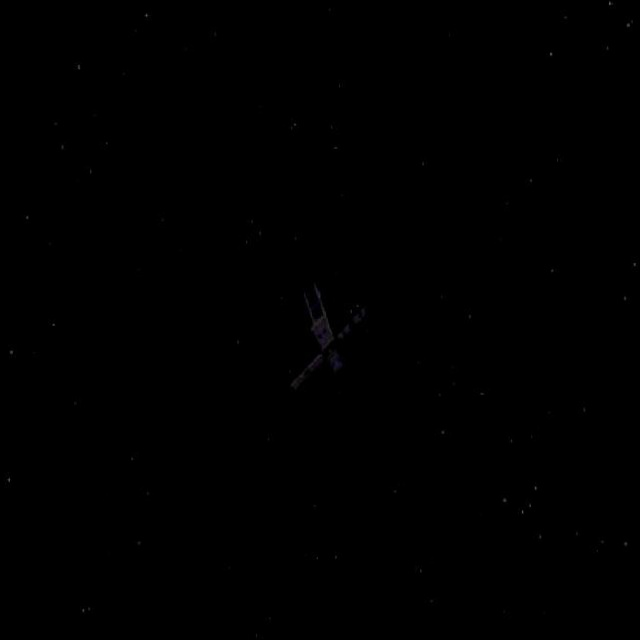satellite: (276, 259, 383, 408)
